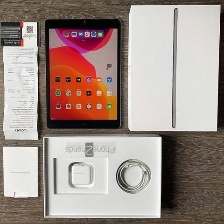book: (126, 1, 221, 134), (40, 130, 164, 222), (0, 18, 40, 141), (1, 144, 39, 200)
phone: (42, 17, 123, 130)
